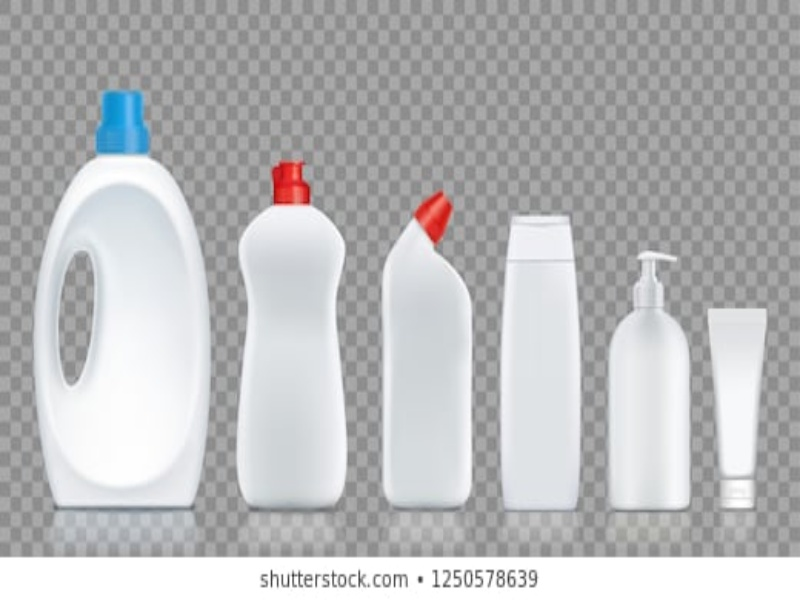detergent-bottle: (30, 85, 211, 516), (233, 160, 355, 511), (375, 188, 481, 509)
shampoo-bottle: (499, 214, 590, 509), (604, 249, 699, 512), (701, 303, 769, 512)
